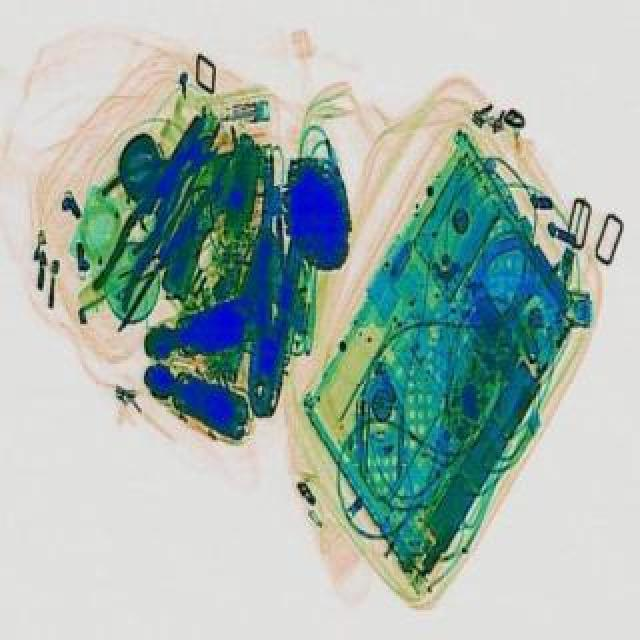wrench: (88, 106, 220, 308), (86, 112, 242, 252), (240, 182, 312, 414)
